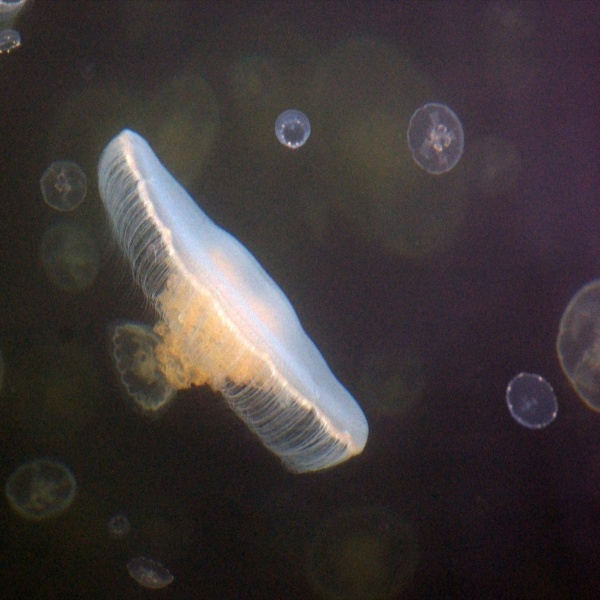Jellyfish: (105, 122, 383, 487), (555, 281, 599, 413), (110, 328, 175, 414), (2, 460, 75, 530), (405, 106, 463, 175), (503, 369, 556, 430), (40, 163, 86, 212), (128, 557, 173, 590), (274, 111, 310, 151)
